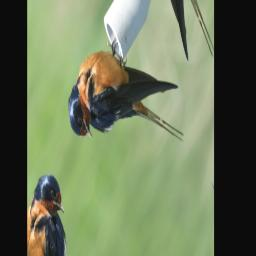Swallow: (60, 0, 194, 242)
